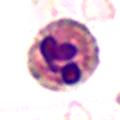eosi: (28, 17, 103, 92), (25, 17, 106, 81)
